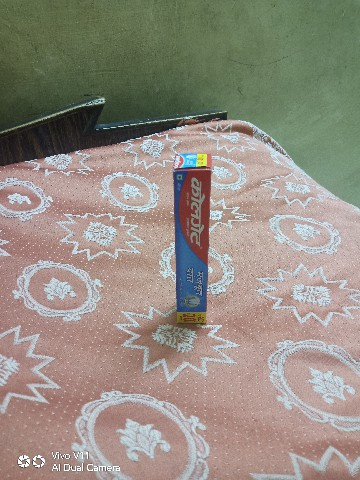colgatetoothpaste small: (159, 129, 235, 359)
